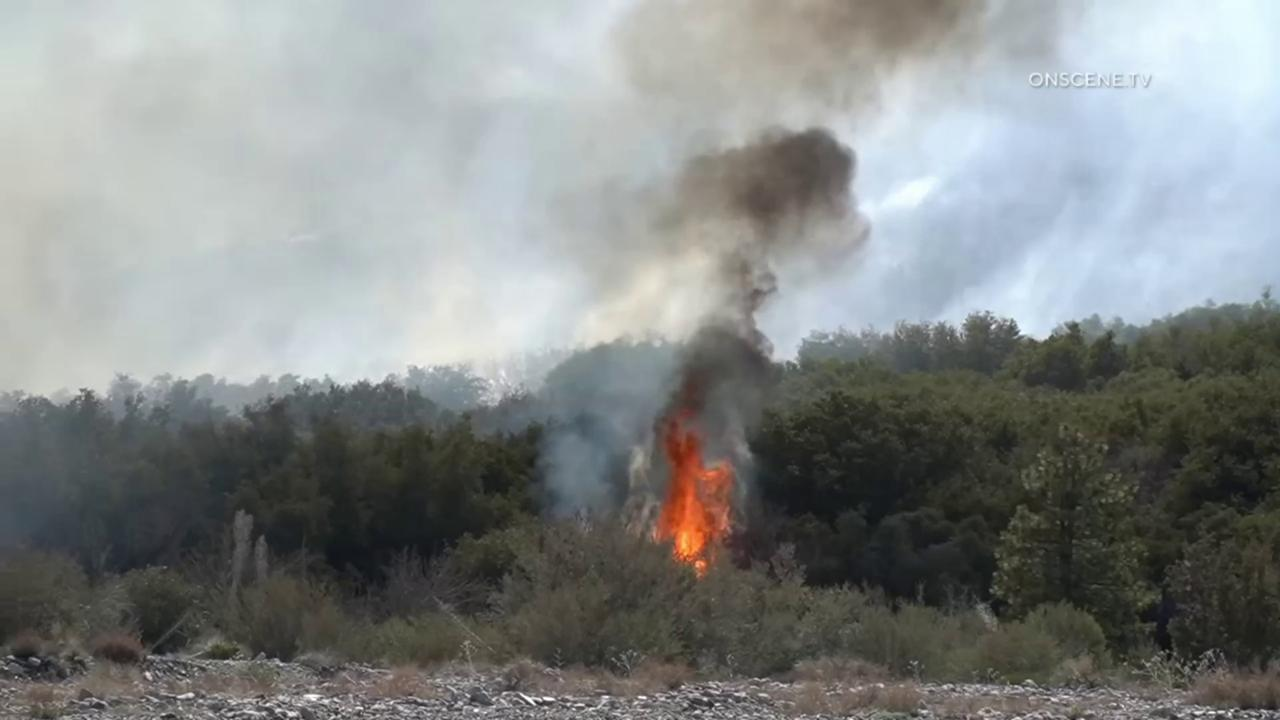fire: (651, 412, 738, 587)
smoke: (0, 0, 1280, 534)
